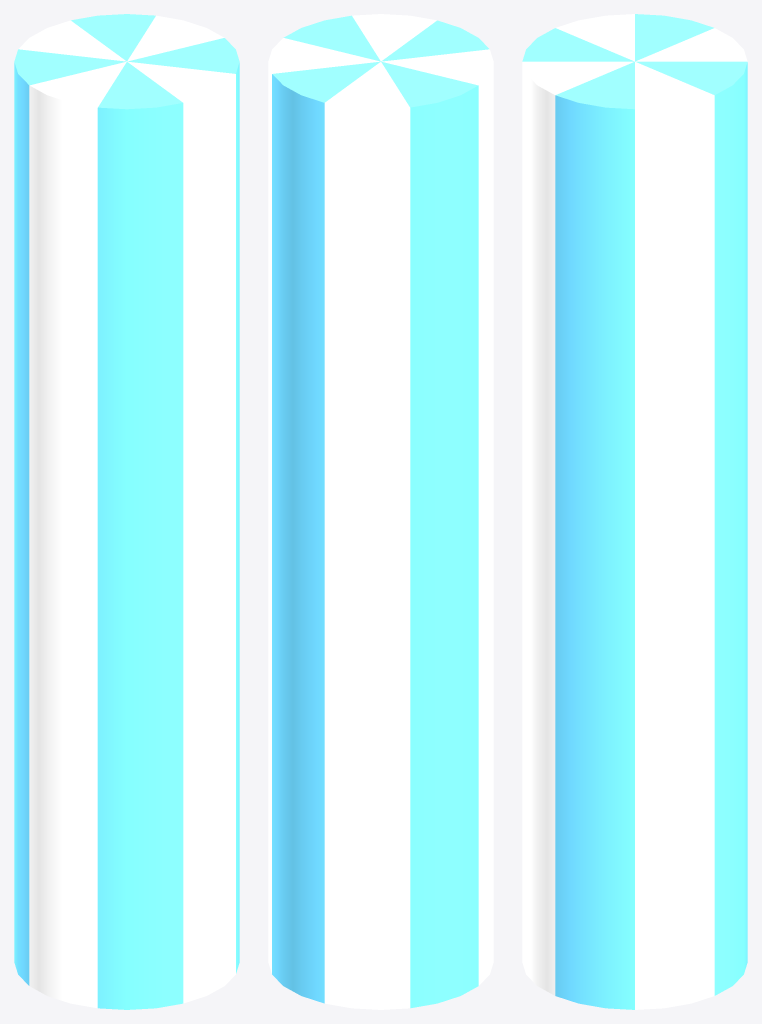
3 renders of one model, left to right at view 1: azimuth 30°, elevation 25°; view 2: azimuth 150°, elevation 25°; view 3: azimuth 270°, elevation 25°, orthographic.
Visible parts, largest first — view 1: model_5; view 2: model_5; view 3: model_5.
Boxes of the visible parts, <box> form: model_5: <box>14,14,239,1009</box>; model_5: <box>268,14,493,1009</box>; model_5: <box>522,14,747,1009</box>.
Size of the model in its own units: 0.0635 by 0.28 by 0.0635.
